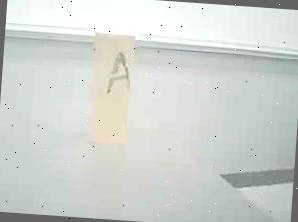Bottle A: (76, 13, 154, 160)
